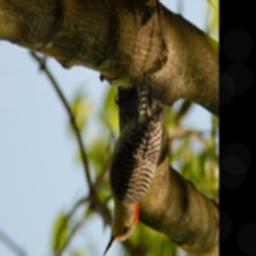Woodpecker: (103, 73, 163, 256)
